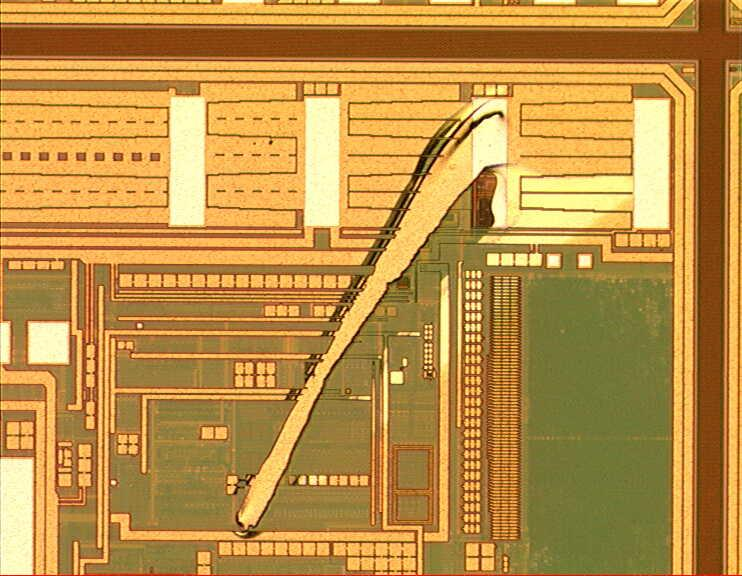BLOCK ETCH: (229, 79, 638, 543)
